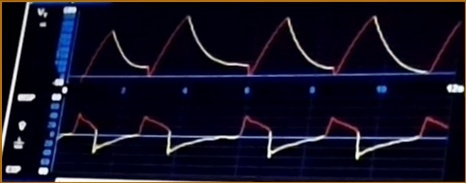Flow: (64, 105, 449, 170)
Leakage Volume: (80, 12, 460, 82)
